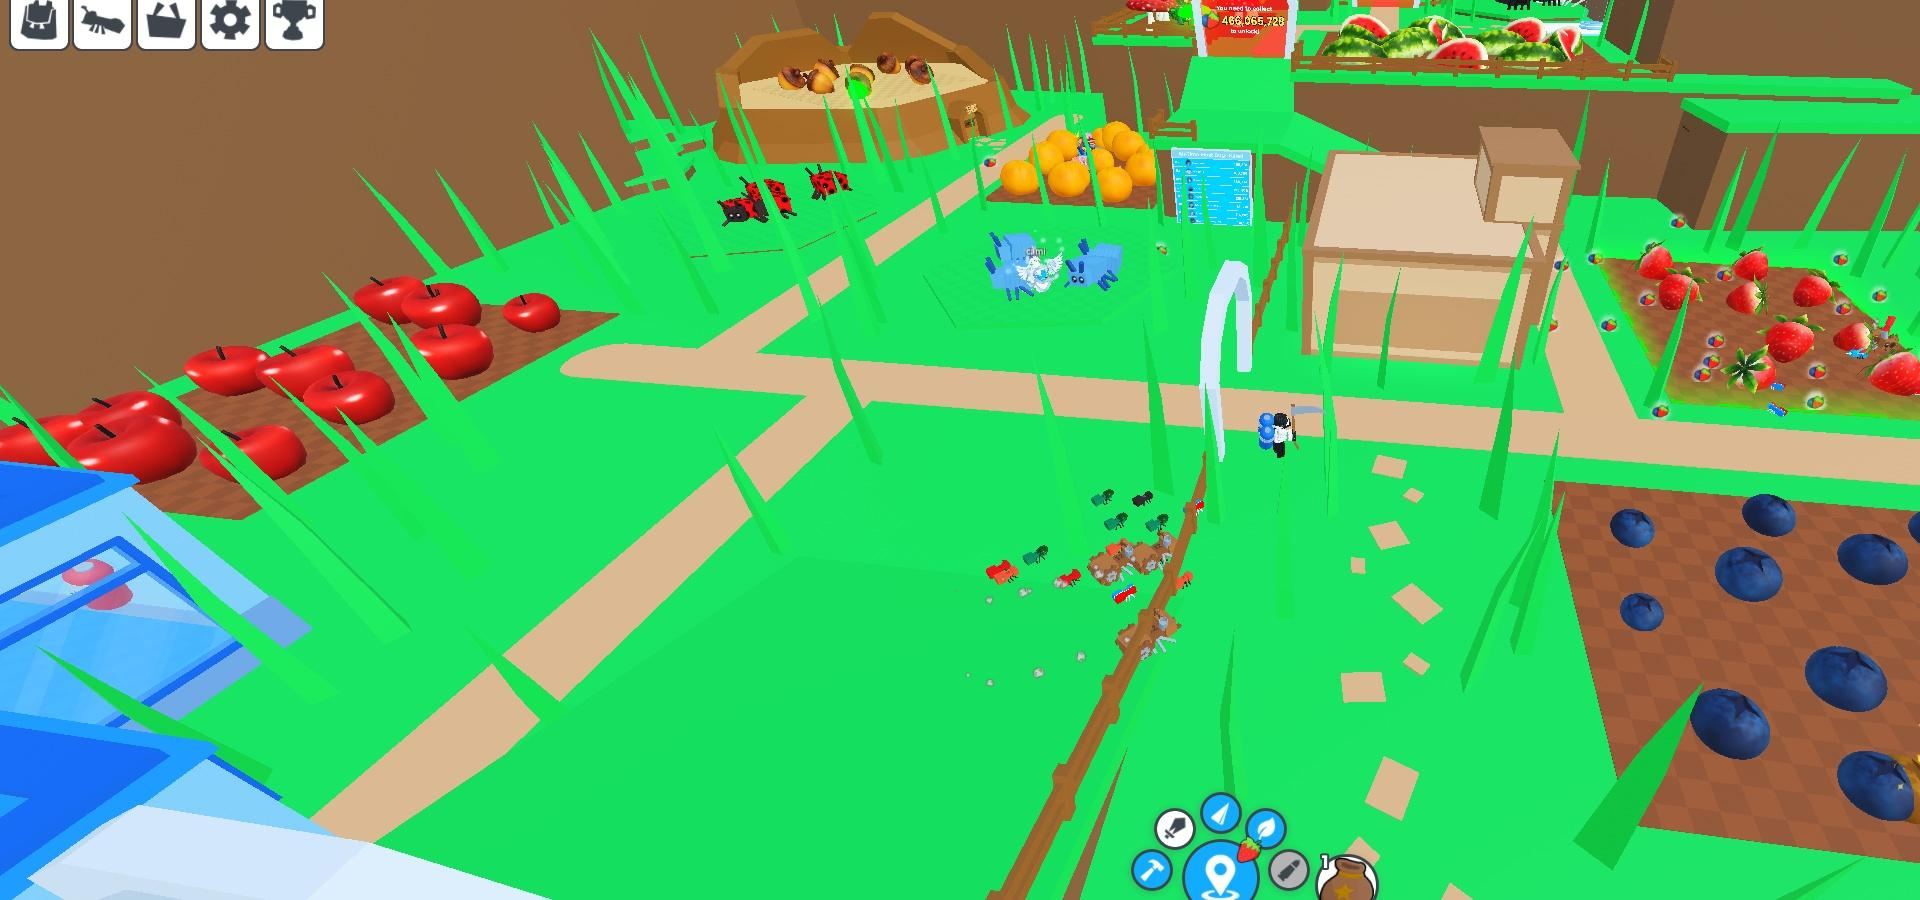Enemy: (1067, 235, 1131, 290), (976, 258, 1044, 304), (804, 162, 858, 202), (986, 227, 1042, 258), (715, 196, 767, 227), (744, 171, 793, 201)
